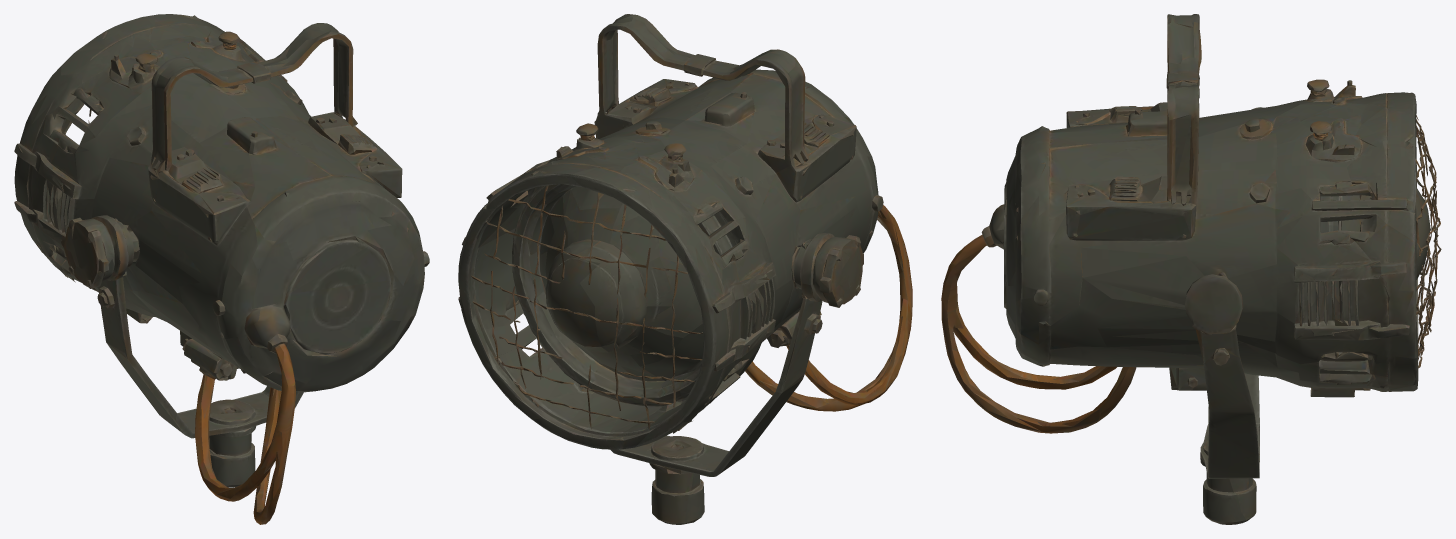
The model's file is tower_searchlight.glb.
3 renders of one model, left to right at view 1: azimuth 30°, elevation 25°; view 2: azimuth 150°, elevation 25°; view 3: azimuth 270°, elevation 25°, orthographic. The views are drawn at different scales.
Parts seen in each view (by area): view 1: tower_searchlight; view 2: tower_searchlight; view 3: tower_searchlight.
Part boxes in pixels (x1=…): tower_searchlight: x1=14, y1=14, x2=429, y2=524; tower_searchlight: x1=458, y1=14, x2=912, y2=524; tower_searchlight: x1=941, y1=14, x2=1441, y2=524.
Bounding box in the file's own units: 1.05 × 1.54 × 1.5.
1 material, 1 textured.
